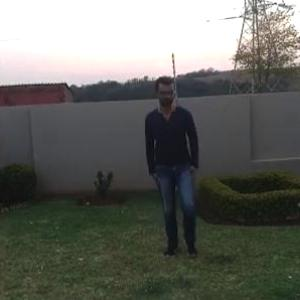follow: (149, 64, 208, 277)
